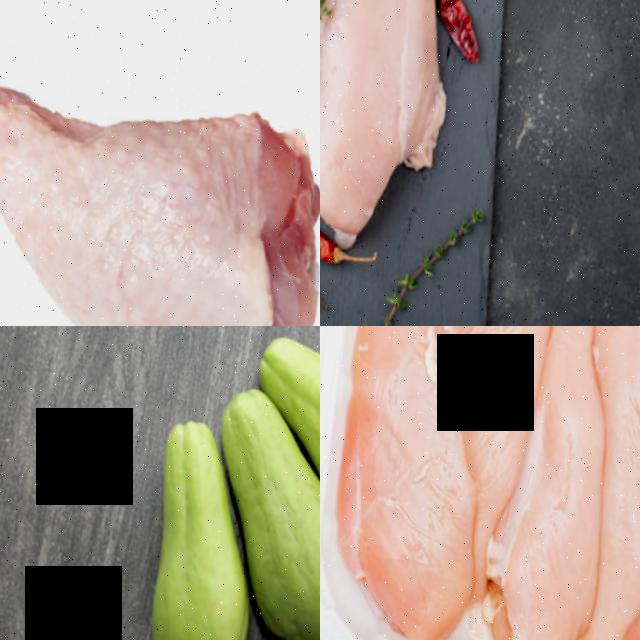chayote: (60, 399, 257, 640), (188, 415, 320, 640), (246, 326, 320, 482)
chicken breast: (320, 326, 590, 640), (448, 326, 640, 640), (320, 0, 503, 261), (520, 326, 640, 640)
chicken thigh: (0, 0, 320, 326)
